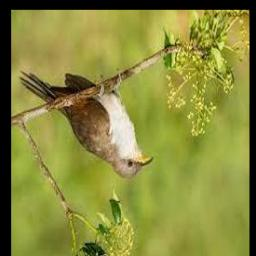Cuckoo: (19, 74, 154, 179)
